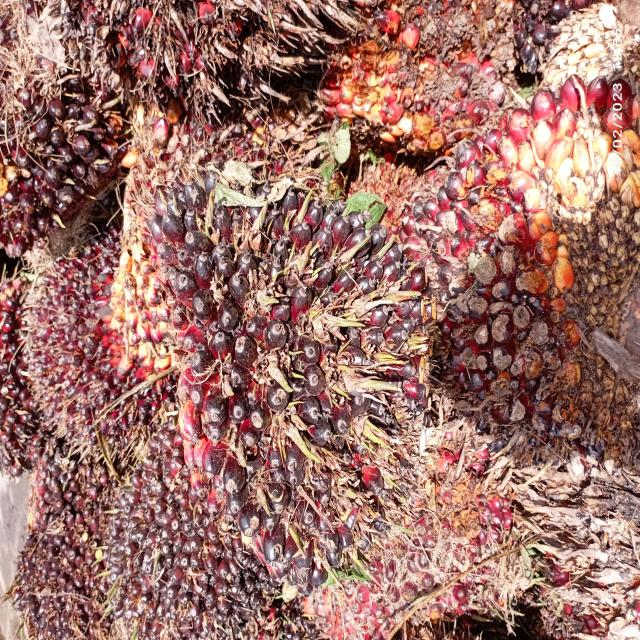fraksi 1: (128, 146, 459, 586), (406, 62, 638, 466), (101, 443, 271, 632), (0, 466, 156, 640)
fraksi 3: (356, 452, 537, 640), (7, 251, 171, 449)
